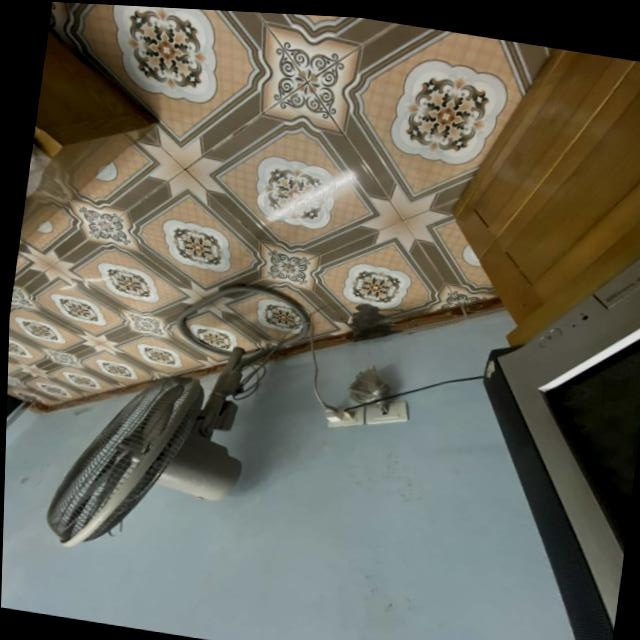outlet: (362, 396, 410, 431), (322, 399, 366, 434)
